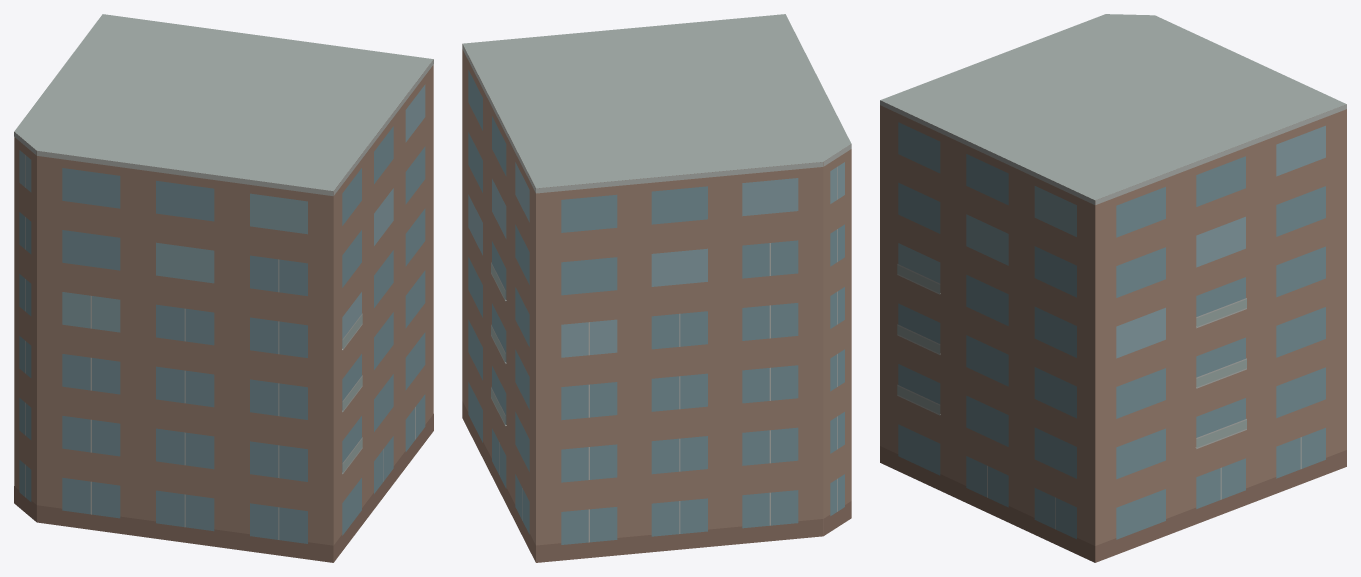
The model's file is survey-upis-32836349.glb.
3 renders of one model, left to right at view 1: azimuth 30°, elevation 25°; view 2: azimuth 150°, elevation 25°; view 3: azimuth 270°, elevation 25°, orthographic. The views are drawn at different scales.
Parts seen in each view (by area): view 1: survey-upis-32836349.tmp; view 2: survey-upis-32836349.tmp; view 3: survey-upis-32836349.tmp.
Part boxes in pixels (x1,y1,x2,y2): survey-upis-32836349.tmp: (14,14,433,562); survey-upis-32836349.tmp: (462,14,851,562); survey-upis-32836349.tmp: (880,14,1346,562).
Size of the model in its own units: 19.74 by 17.9 by 20.89.
